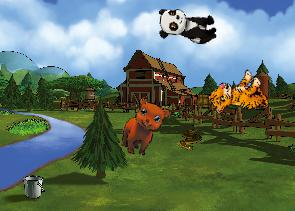bear: (118, 95, 172, 161)
panda: (156, 6, 219, 45)
tiger: (204, 63, 274, 130)
